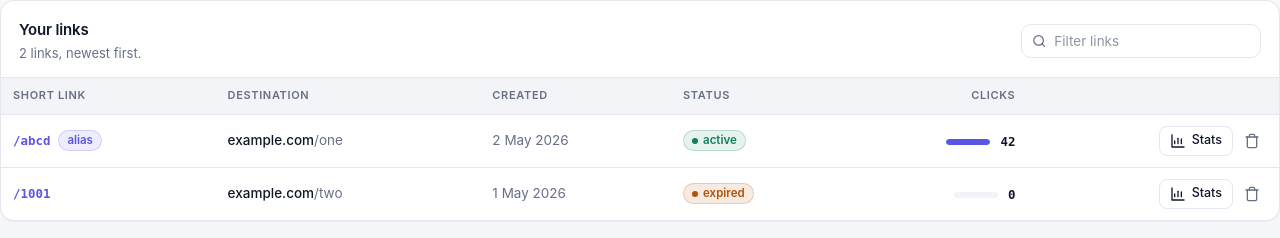
Test: LinkTable › filters rows by code or destination
Type "two" into the search field labelled "Filter links". click: (1152, 41)
box: top-left (1054, 25), bottom-right (1250, 57)
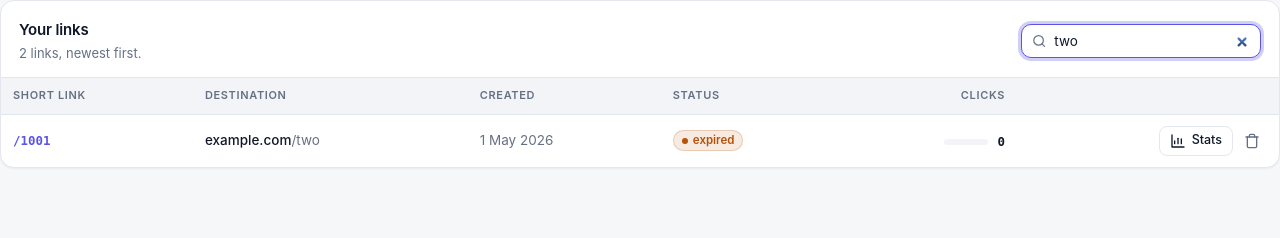
Expected: the link "/1001" is shown, top-left (13, 132), bottom-right (50, 150)
Replace the text in the search field named "Filter links" with "nothing-like-this". click: (1152, 41)
box: top-left (1054, 25), bottom-right (1250, 57)
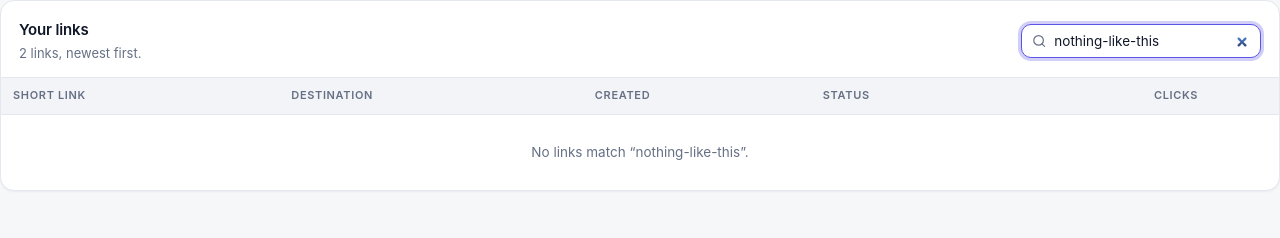
Result: the text "No links match “nothing-like-this”." is shown at top-left (1, 114), bottom-right (1279, 190)
